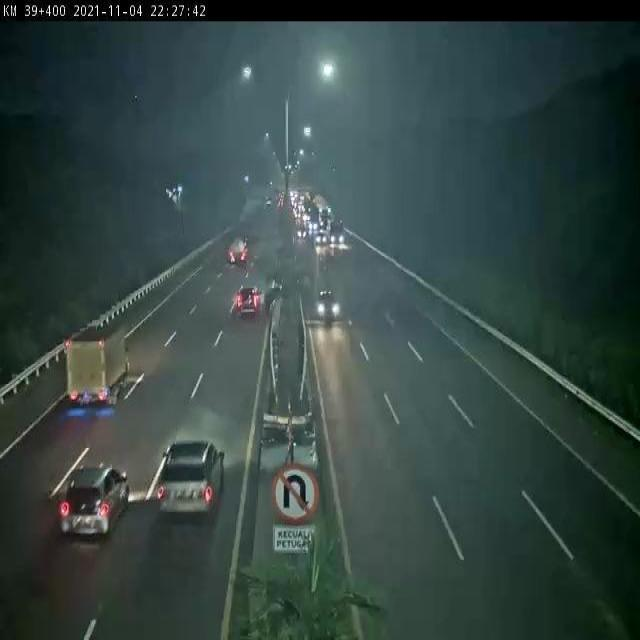ARABA: (156, 436, 226, 517), (60, 464, 131, 537), (315, 286, 341, 322), (236, 282, 262, 314)
KAMYONET: (64, 328, 130, 409)
TIR: (228, 232, 250, 265)
